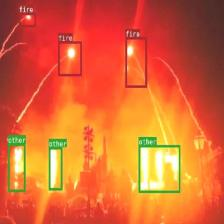fire: (125, 37, 147, 87), (58, 41, 82, 75), (19, 12, 36, 27)
